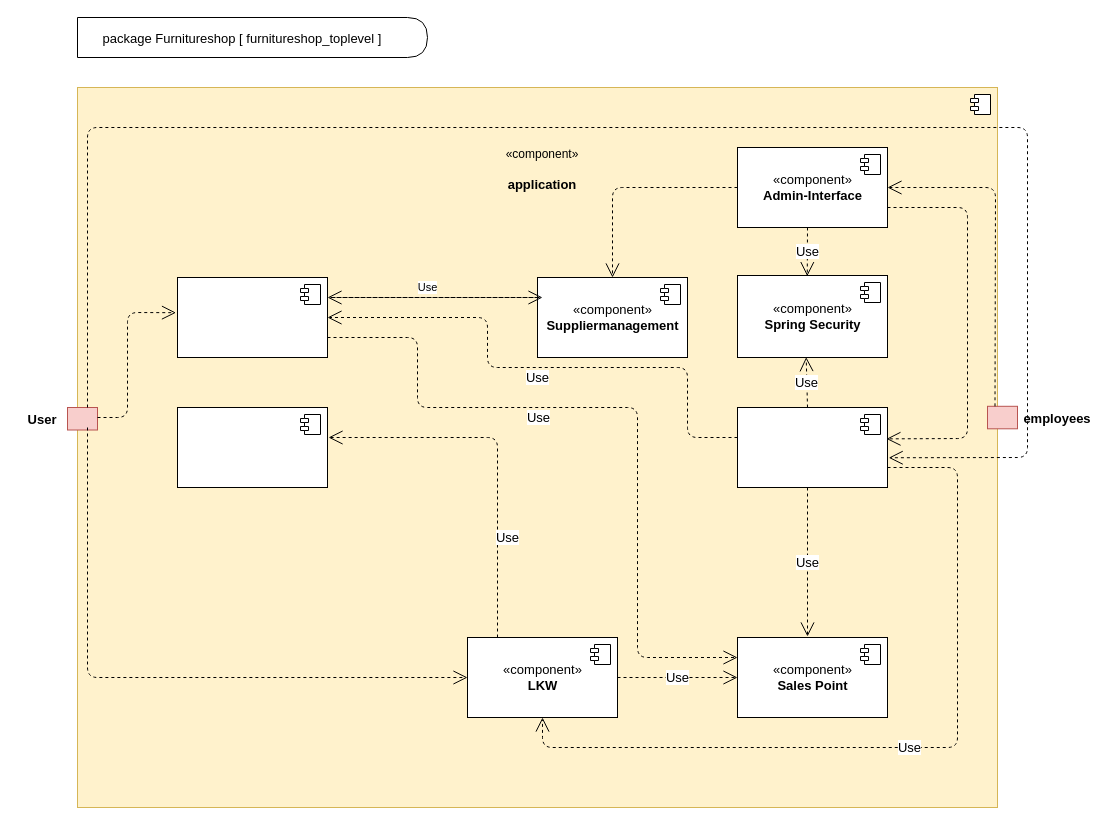
Some shapes in this 1114 by 825 pixel diagram are drawn without their labels. Here are the shapes that lost their labels. From the top down, the centre of each, then its label:
At pixel 252 317: "«component» Inventory".
At pixel 252 447: "«component» Calendar".
At pixel 812 447: "«component» Order".
